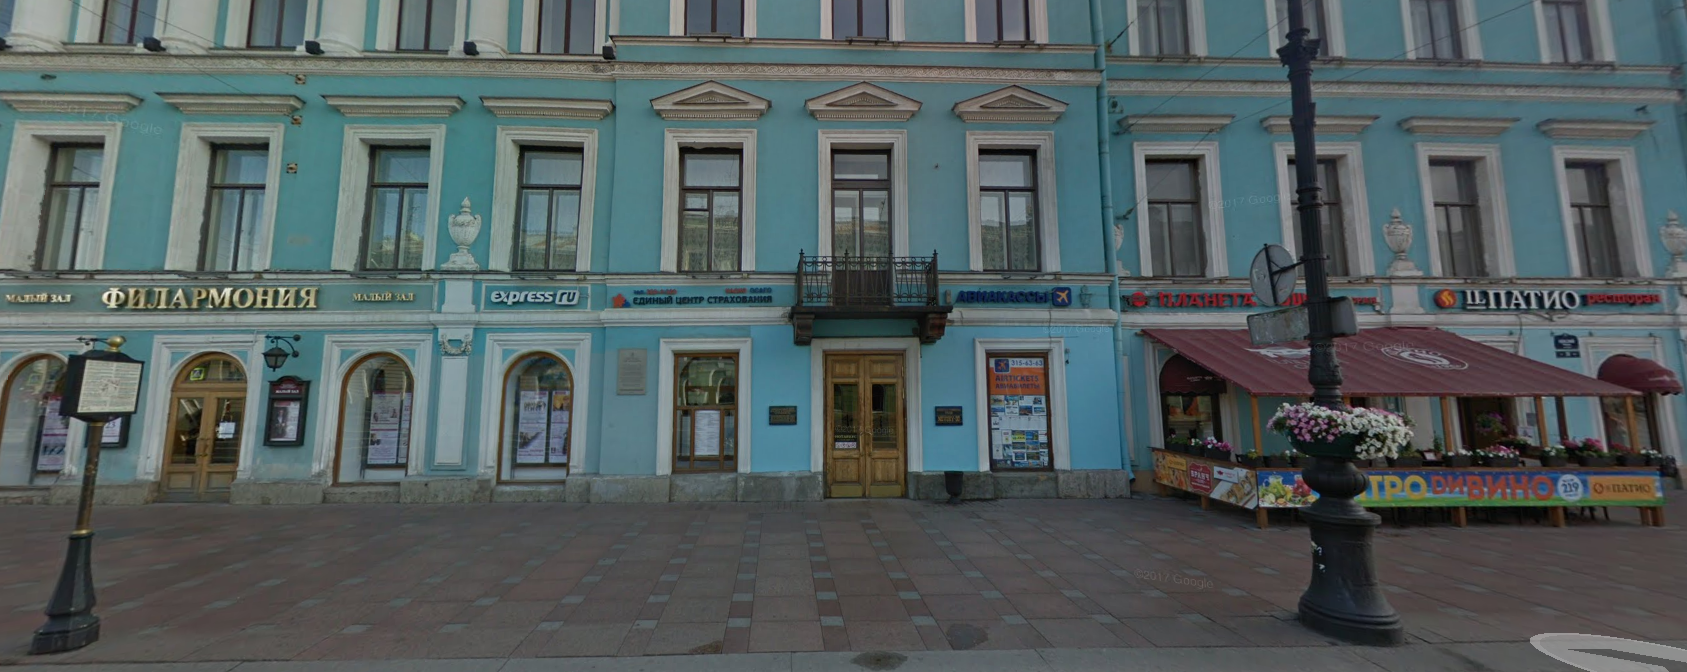door: (825, 351, 901, 502), (152, 387, 249, 499)
signboard: (99, 281, 322, 315), (1424, 285, 1660, 315), (600, 281, 776, 313), (1118, 278, 1260, 315), (951, 282, 1084, 311), (488, 278, 584, 315), (5, 287, 80, 309), (350, 286, 417, 304)
window: (188, 135, 277, 268), (330, 348, 417, 480), (358, 145, 434, 264), (976, 141, 1040, 274), (34, 143, 99, 275), (511, 352, 571, 492), (518, 140, 581, 270), (992, 347, 1057, 471), (1144, 152, 1205, 276), (1562, 163, 1628, 278), (681, 151, 747, 264), (676, 354, 739, 471), (1432, 165, 1491, 278), (837, 157, 885, 274)
